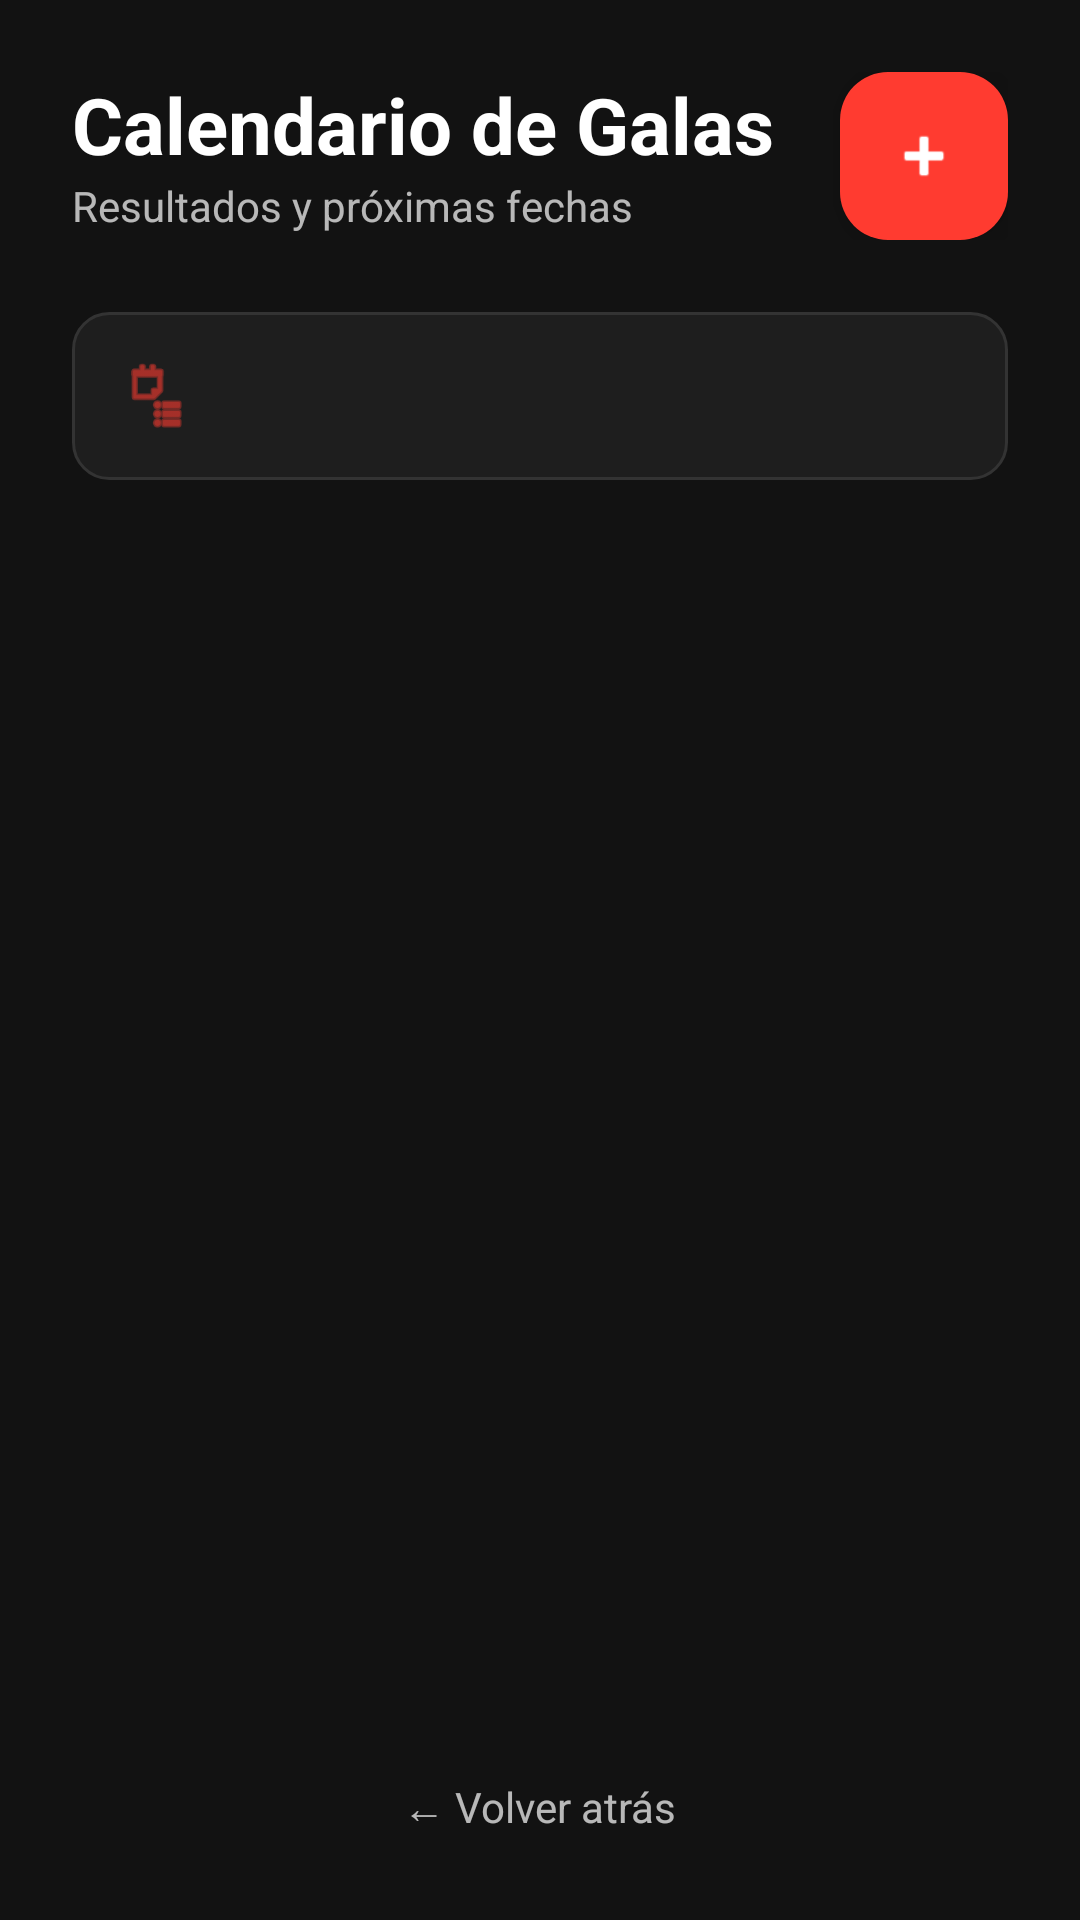

Screen size 1080w x 1920h. Icon name, then its box in pixels as rect(x1, y1, x2, y2):
agenda: rect(131, 364, 182, 428)
Añadir Gala: rect(840, 72, 1008, 240)
